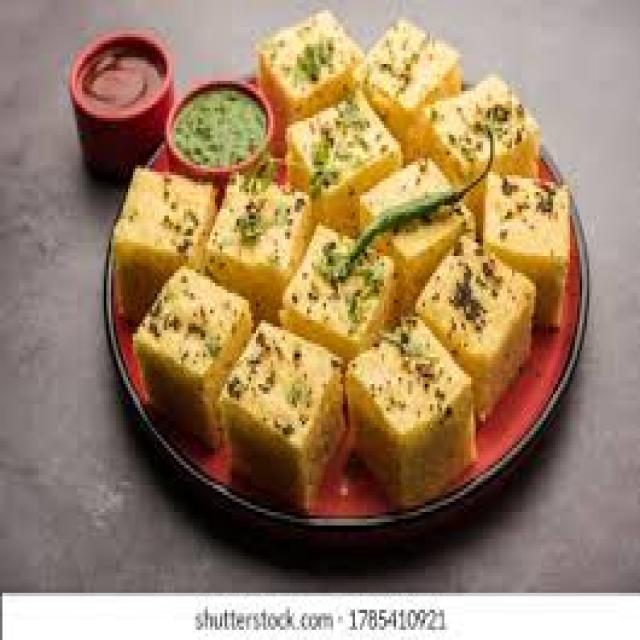DHOKLA: (242, 10, 568, 431), (215, 322, 348, 510), (345, 321, 473, 515), (421, 233, 535, 422), (139, 264, 251, 450), (115, 171, 217, 328)
